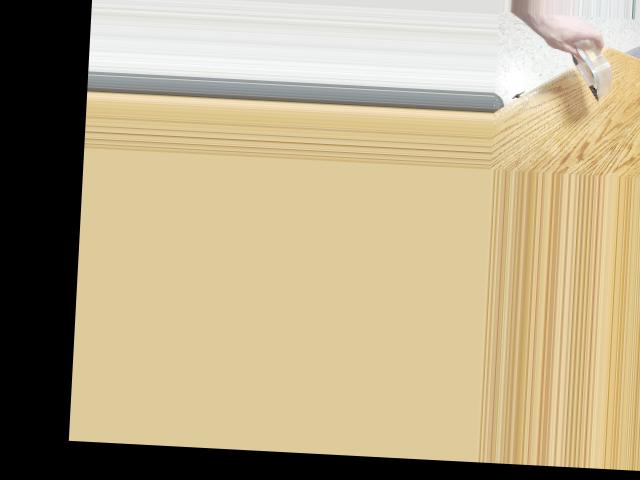cheese: (546, 23, 631, 88)
